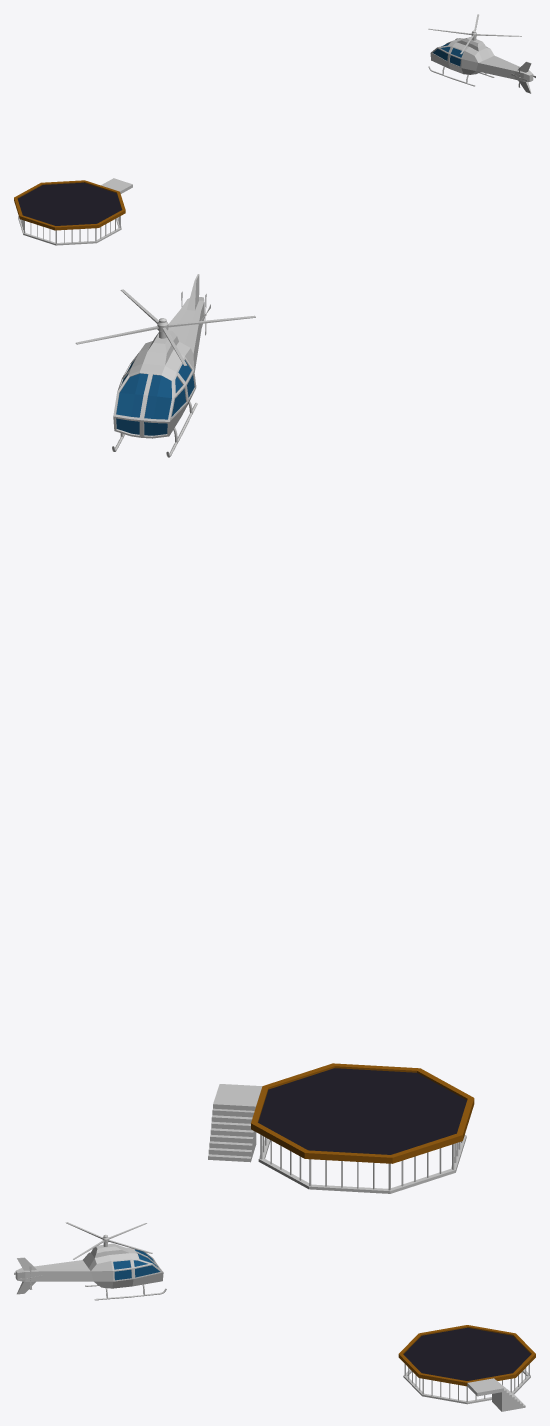
The model's file is copter_000117.obj.
The picture shows the model from 3 angles, top to bottom: view 1: azimuth 30°, elevation 25°; view 2: azimuth 150°, elevation 25°; view 3: azimuth 270°, elevation 25°; orthographic projection. The views are drawn at different scales.
Parts seen in each view (by area): view 1: Cylinder.001_Cylinder.012, Helicopter.007_Cylinder.008, Helicopter.001_Cylinder.001; view 2: Cylinder.001_Cylinder.012, Helicopter.007_Cylinder.008, Helicopter.001_Cylinder.001; view 3: Cylinder.001_Cylinder.012, Helicopter.007_Cylinder.008, Helicopter.001_Cylinder.001.
Boxes of the visible parts, x1=… form: Cylinder.001_Cylinder.012: x1=14, y1=178, x2=132, y2=245; Helicopter.007_Cylinder.008: x1=428, y1=37, x2=533, y2=93; Helicopter.001_Cylinder.001: x1=428, y1=14, x2=521, y2=54; Cylinder.001_Cylinder.012: x1=208, y1=1063, x2=474, y2=1193; Helicopter.007_Cylinder.008: x1=112, y1=274, x2=204, y2=457; Helicopter.001_Cylinder.001: x1=75, y1=289, x2=255, y2=365; Cylinder.001_Cylinder.012: x1=398, y1=1325, x2=535, y2=1411; Helicopter.007_Cylinder.008: x1=15, y1=1243, x2=166, y2=1300; Helicopter.001_Cylinder.001: x1=66, y1=1222, x2=152, y2=1259.
Size of the model in its own units: 22.74 by 15.68 by 25.73.
